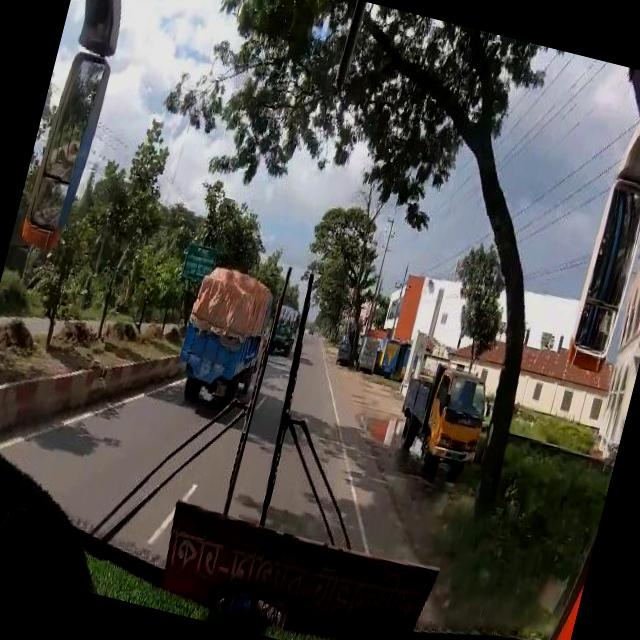truck: (170, 261, 282, 414), (385, 357, 497, 478), (268, 301, 303, 353), (378, 336, 403, 372), (356, 335, 382, 368)
